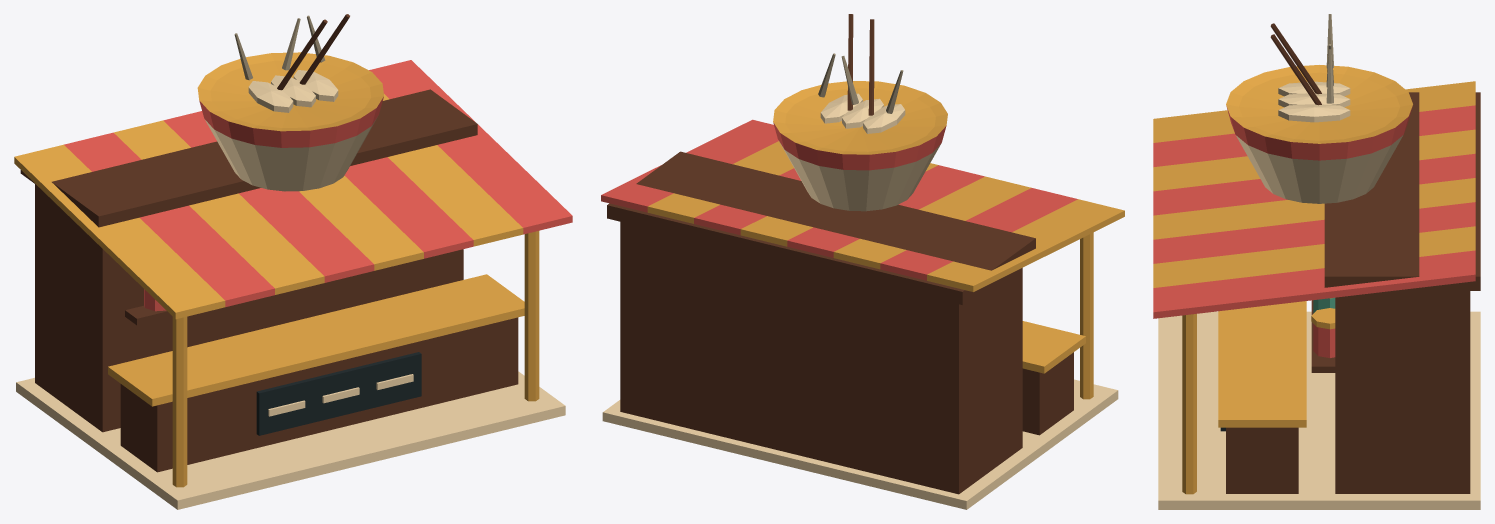
The model's file is ParkParkShopNoodle.obj.
3 views of the same model, side by side, from view 1: azimuth 30°, elevation 25°; view 2: azimuth 150°, elevation 25°; view 3: azimuth 270°, elevation 25° (orthographic). The views are drawn at different scales.
Visible parts, largest first — view 1: ParkParkShopNoodle; view 2: ParkParkShopNoodle; view 3: ParkParkShopNoodle.
Part boxes in pixels (x1=…): ParkParkShopNoodle: x1=14, y1=14, x2=572, y2=509; ParkParkShopNoodle: x1=601, y1=14, x2=1124, y2=509; ParkParkShopNoodle: x1=1153, y1=14, x2=1480, y2=509.
Size of the model in its own units: 8.8 by 8.42 by 6.3.
